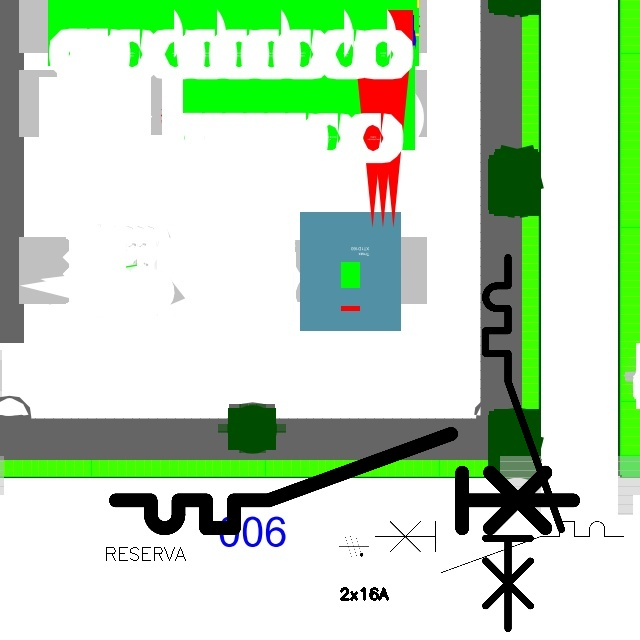interruptor_termomagnetico: (104, 422, 585, 540), (476, 248, 571, 638), (368, 515, 629, 579)
